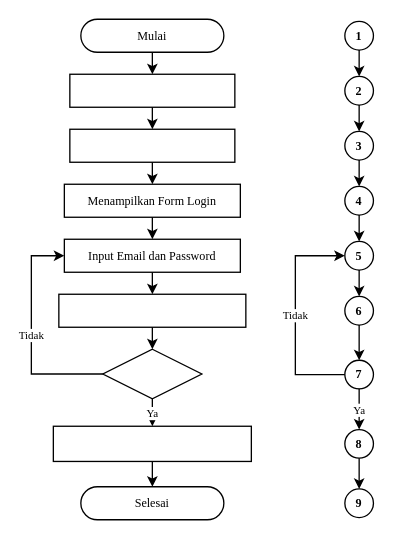
This 394x540 diagram has some shape labels left out. The shapes that lost their labels are listed below. From the top down, each one's centre as x and y in pixels, then its label:
point (152, 90): Akses Website
point (152, 145): Akses Halaman Login
point (152, 310): Verifikasi Email dan Password
point (152, 373): Valid?
point (151, 443): Menampilkan Halaman Dashboard
